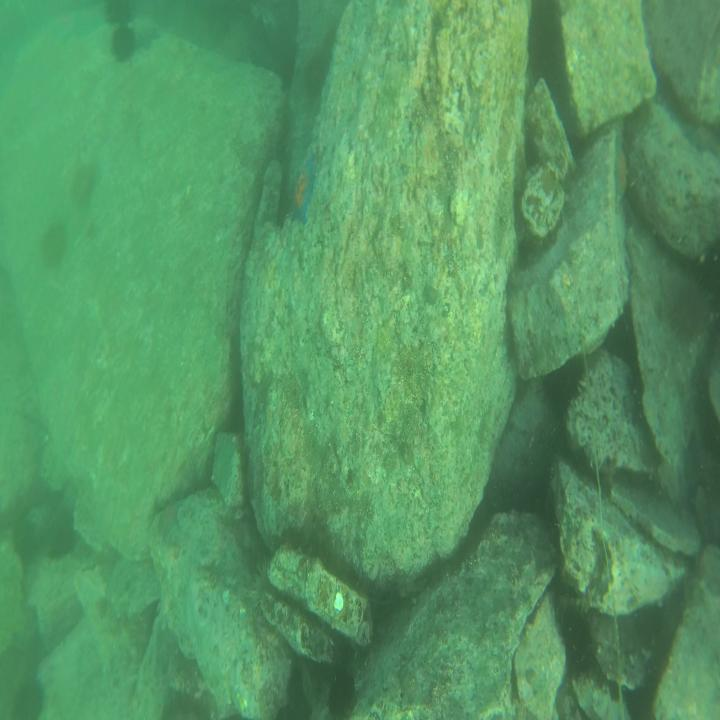echinus: (668, 271, 710, 346), (558, 598, 596, 670), (537, 359, 575, 420), (323, 666, 361, 714), (248, 566, 283, 614), (13, 679, 45, 718), (69, 158, 97, 202), (42, 225, 67, 267), (108, 29, 138, 57), (102, 1, 132, 26)
starfish: (292, 157, 319, 229), (616, 132, 632, 215)
